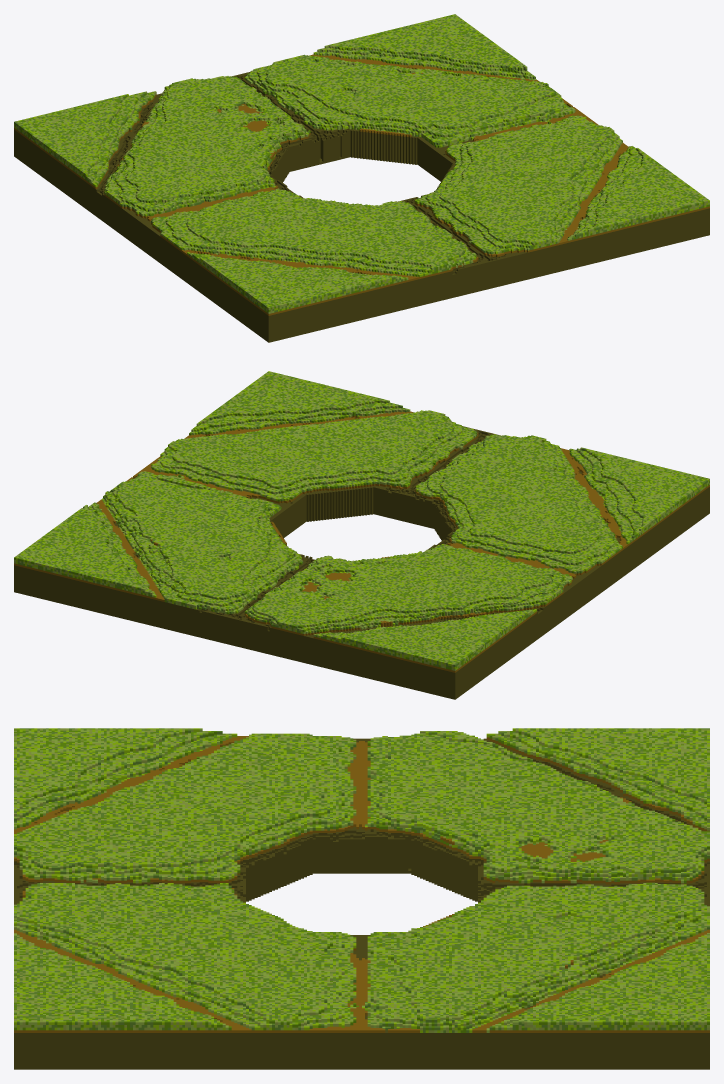
Rendered from Tab C3-0.obj.
The picture shows the model from 3 angles, top to bottom: view 1: azimuth 30°, elevation 25°; view 2: azimuth 150°, elevation 25°; view 3: azimuth 270°, elevation 25°; orthographic projection. The views are drawn at different scales.
Size of the model in its own units: 24 by 1.8 by 24.
1 material, 1 textured.
